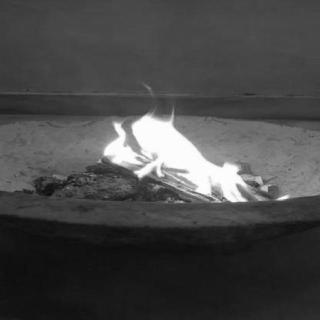Fire: (92, 106, 290, 202)
